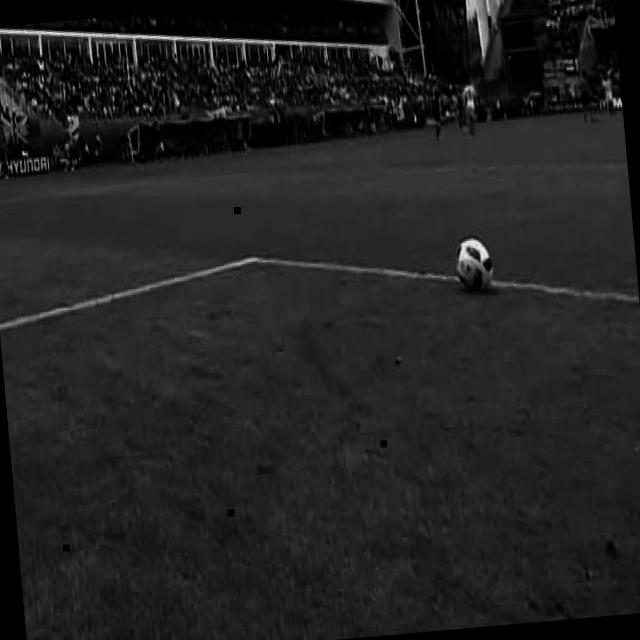ball: (454, 234, 494, 292)
player-white: (462, 78, 480, 136), (578, 70, 596, 124), (428, 80, 444, 140), (603, 69, 617, 117)
